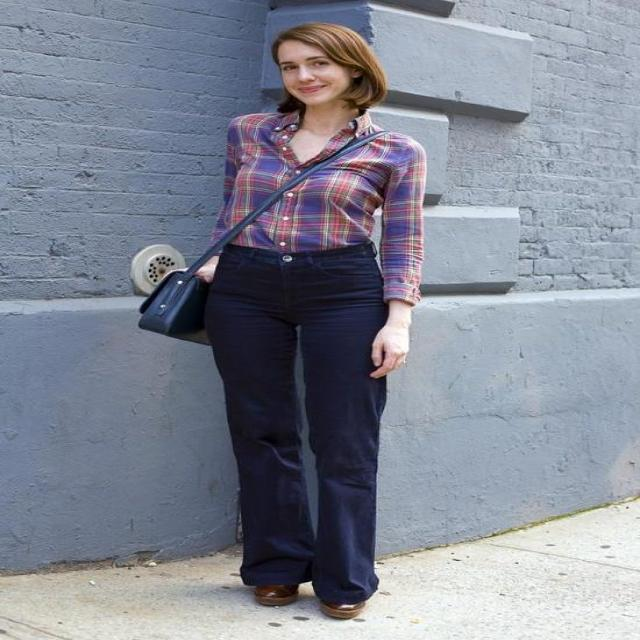pants: (209, 243, 390, 602)
shirt: (211, 108, 427, 304)
